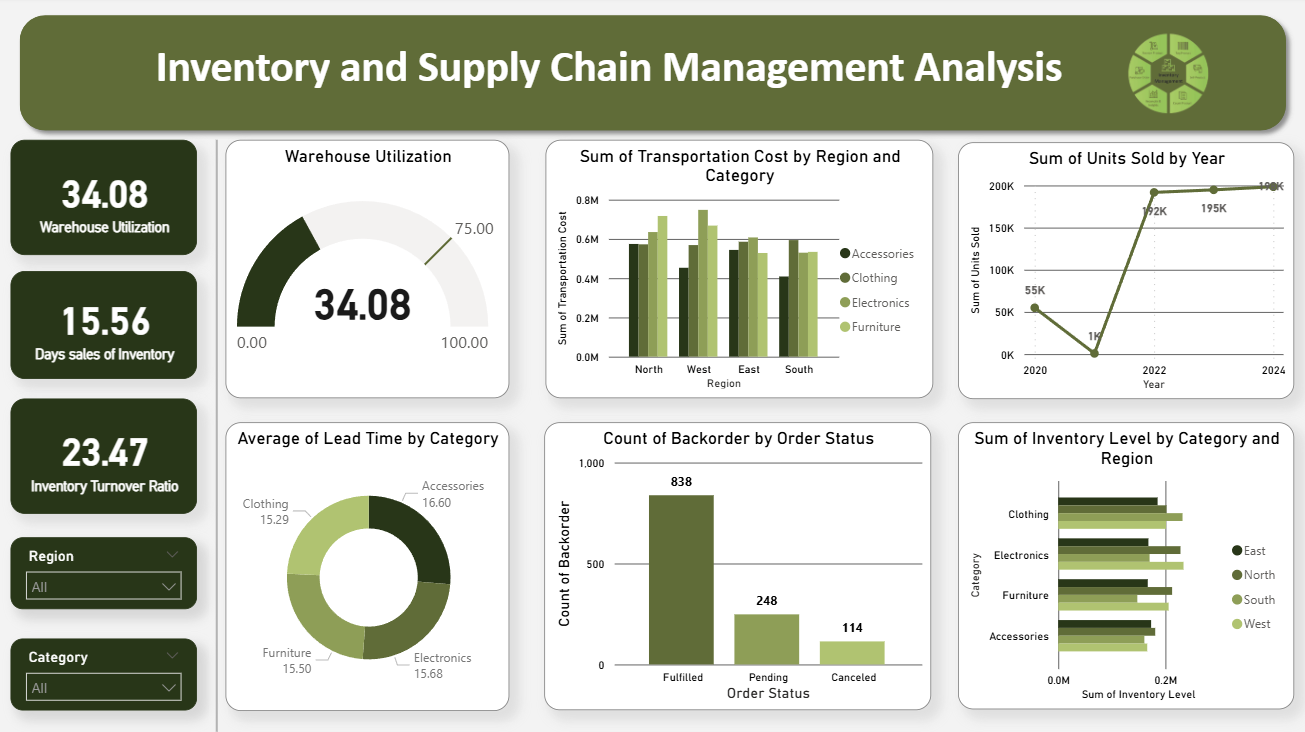

What the dashboard file says about the page in this screenshot:
{"tool":"powerbi","page":{"name":"Page 1","canvas":[1280,720],"ordinal":0},"visuals":[{"type":"shape","box":[11.8,10.3,1256.3,130.8],"z":0},{"type":"textbox","box":[133.7,38.2,928.7,74.9],"z":1000},{"type":"image","box":[1049.1,25,191,102.9],"z":2000},{"type":"shape","box":[207.2,141.1,14.7,578.9],"z":3000},{"type":"card","fields":{"Values":["Inventory and Supply Chain Dataset.Warehouse Utilization"]},"box":[11.8,141.1,182.2,113.1],"z":4000},{"type":"card","fields":{"Values":["Inventory and Supply Chain Dataset.Days sales of Inventory"]},"box":[11.8,268.9,182.2,105.8],"z":5000},{"type":"card","fields":{"Values":["Inventory and Supply Chain Dataset.Inventory Turnover Ratio"]},"box":[11.8,393.8,182.2,113.1],"z":6000},{"type":"slicer","fields":{"Values":["Inventory and Supply Chain Dataset.Region"]},"box":[11.8,529,182.2,70.5],"z":7000},{"type":"slicer","fields":{"Values":["Inventory and Supply Chain Dataset.Category"]},"box":[11.8,628.9,182.2,70.5],"z":8000},{"type":"gauge","fields":{"Y":["Inventory and Supply Chain Dataset.Warehouse Utilization"]},"box":[221.9,141.1,277.7,252.7],"z":9000},{"type":"clusteredColumnChart","fields":{"Y":["Sum(Inventory and Supply Chain Dataset.Transportation Cost)"],"Category":["Inventory and Supply Chain Dataset.Region"],"Series":["Inventory and Supply Chain Dataset.Category"]},"box":[534.9,141.1,379.1,252.7],"z":10000},{"type":"lineChart","fields":{"Y":["Sum(Inventory and Supply Chain Dataset.Units Sold)"],"Category":["Inventory and Supply Chain Dataset.Date.Variation.Date Hierarchy.Year"]},"box":[938.9,142.5,329.1,251.3],"z":11000},{"type":"donutChart","fields":{"Y":["Avg(Inventory and Supply Chain Dataset.Lead Time)"],"Category":["Inventory and Supply Chain Dataset.Category"]},"box":[221.9,417.3,277.7,282.1],"z":12000},{"type":"columnChart","fields":{"Y":["CountNonNull(Inventory and Supply Chain Dataset.Backorder)"],"Category":["Inventory and Supply Chain Dataset.Order Status"]},"box":[534.3,417.1,378.6,281.4],"z":13000},{"type":"clusteredBarChart","fields":{"Y":["Sum(Inventory and Supply Chain Dataset.Inventory Level)"],"Category":["Inventory and Supply Chain Dataset.Category"],"Series":["Inventory and Supply Chain Dataset.Region"]},"box":[939,417,329,281],"z":14000}]}

Visuals, with their boxes in screenshot pixels (x1, y1, x2, y2), scaled from the page's 1280x720 canvas onto the 1305x732 screenshot:
shape: BBox(12, 10, 1293, 143)
textbox: BBox(136, 39, 1083, 115)
image: BBox(1070, 25, 1264, 130)
shape: BBox(211, 143, 226, 731)
card - Inventory and Supply Chain Dataset.Warehouse Utilization: BBox(12, 143, 198, 258)
card - Inventory and Supply Chain Dataset.Days sales of Inventory: BBox(12, 273, 198, 381)
card - Inventory and Supply Chain Dataset.Inventory Turnover Ratio: BBox(12, 400, 198, 515)
slicer - Inventory and Supply Chain Dataset.Region: BBox(12, 538, 198, 609)
slicer - Inventory and Supply Chain Dataset.Category: BBox(12, 639, 198, 711)
gauge - Inventory and Supply Chain Dataset.Warehouse Utilization: BBox(226, 143, 509, 400)
clusteredColumnChart - Sum(Inventory and Supply Chain Dataset.Transportation Cost) x Inventory and Supply Chain Dataset.Region: BBox(545, 143, 932, 400)
lineChart - Sum(Inventory and Supply Chain Dataset.Units Sold) x Inventory and Supply Chain Dataset.Date.Variation.Date Hierarchy.Year: BBox(957, 145, 1293, 400)
donutChart - Avg(Inventory and Supply Chain Dataset.Lead Time) x Inventory and Supply Chain Dataset.Category: BBox(226, 424, 509, 711)
columnChart - CountNonNull(Inventory and Supply Chain Dataset.Backorder) x Inventory and Supply Chain Dataset.Order Status: BBox(545, 424, 931, 710)
clusteredBarChart - Sum(Inventory and Supply Chain Dataset.Inventory Level) x Inventory and Supply Chain Dataset.Category: BBox(957, 424, 1293, 710)
